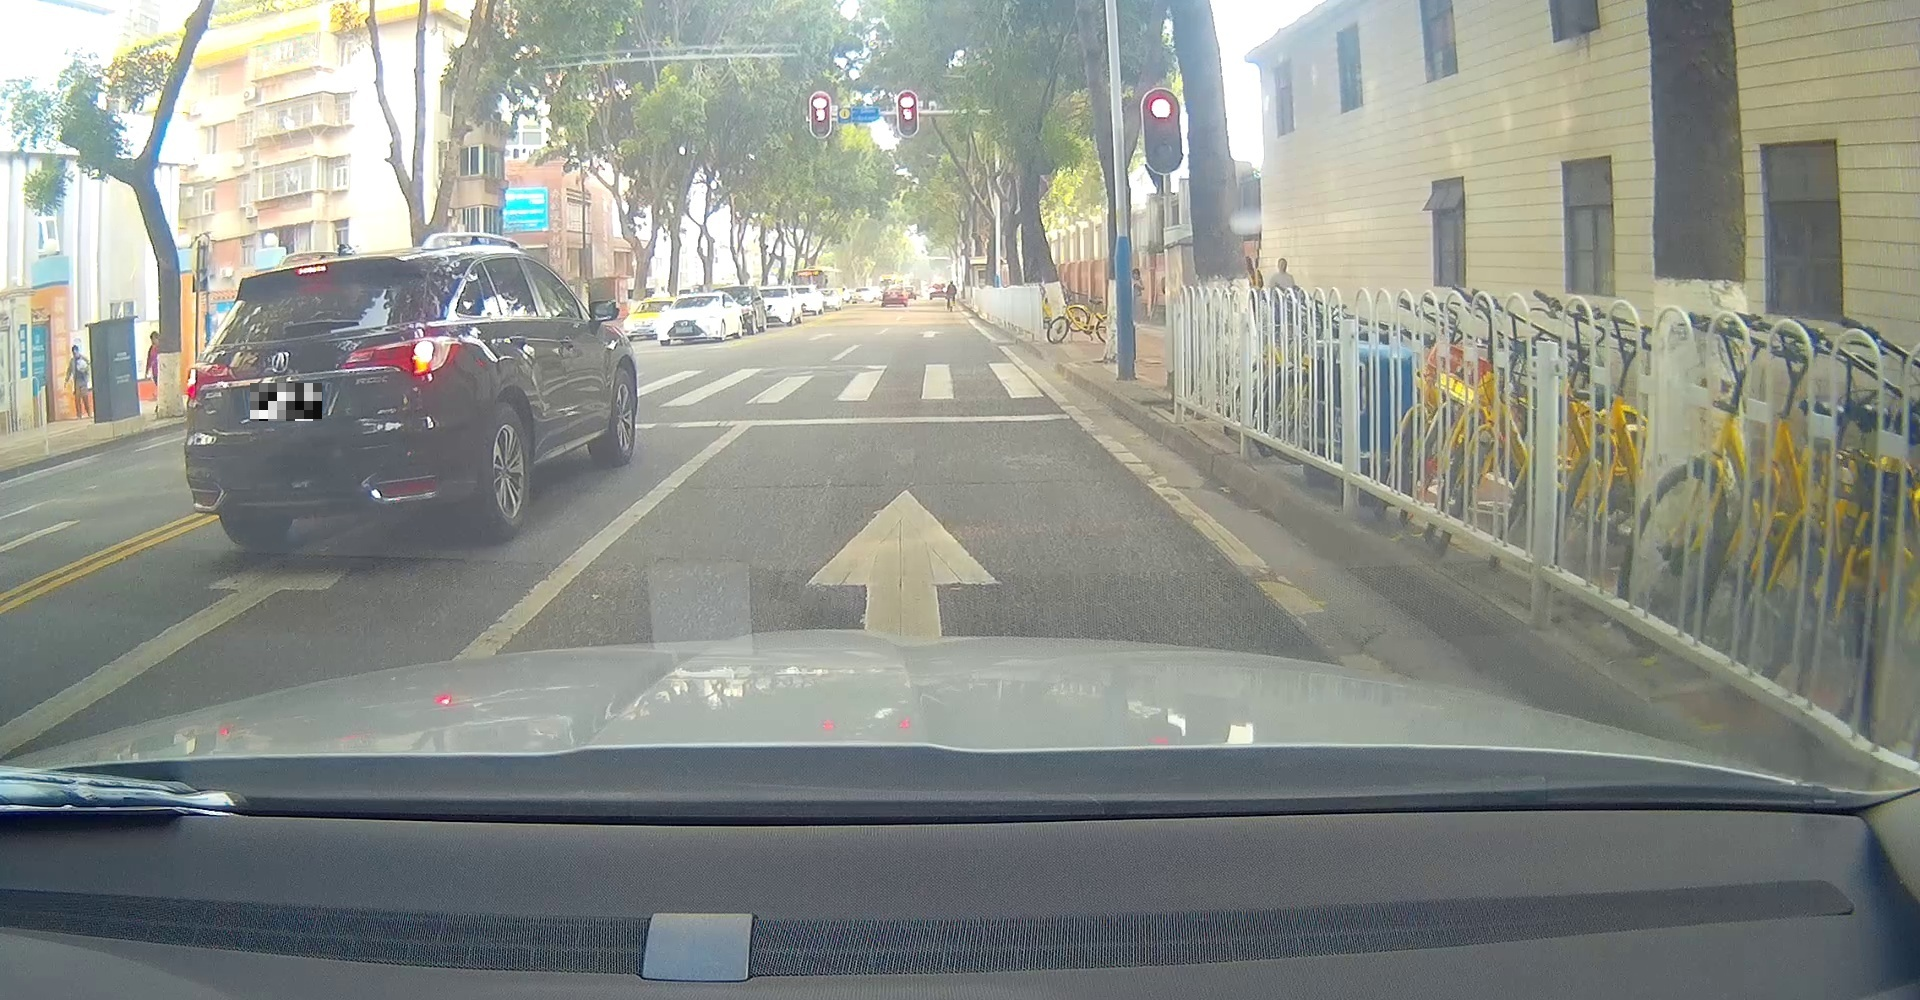L_light: (184, 363, 237, 400)
R_light: (339, 334, 462, 376)
T_light: (295, 263, 329, 277)
day-brake: (179, 254, 466, 555)
plate_1: (250, 383, 323, 421)
